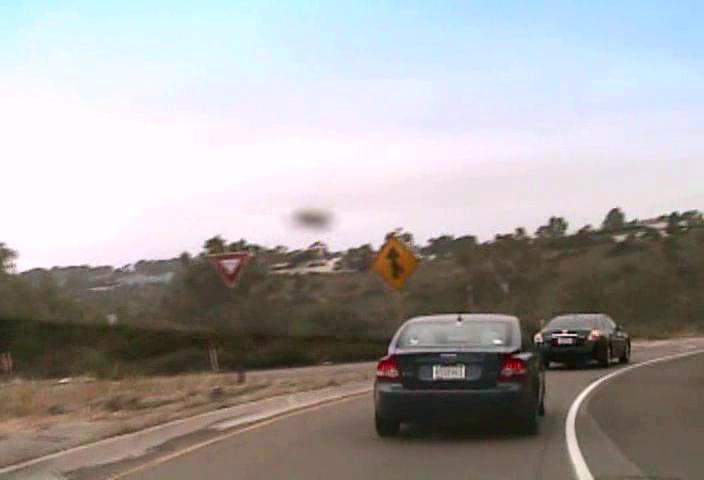yield: (208, 250, 249, 287)
